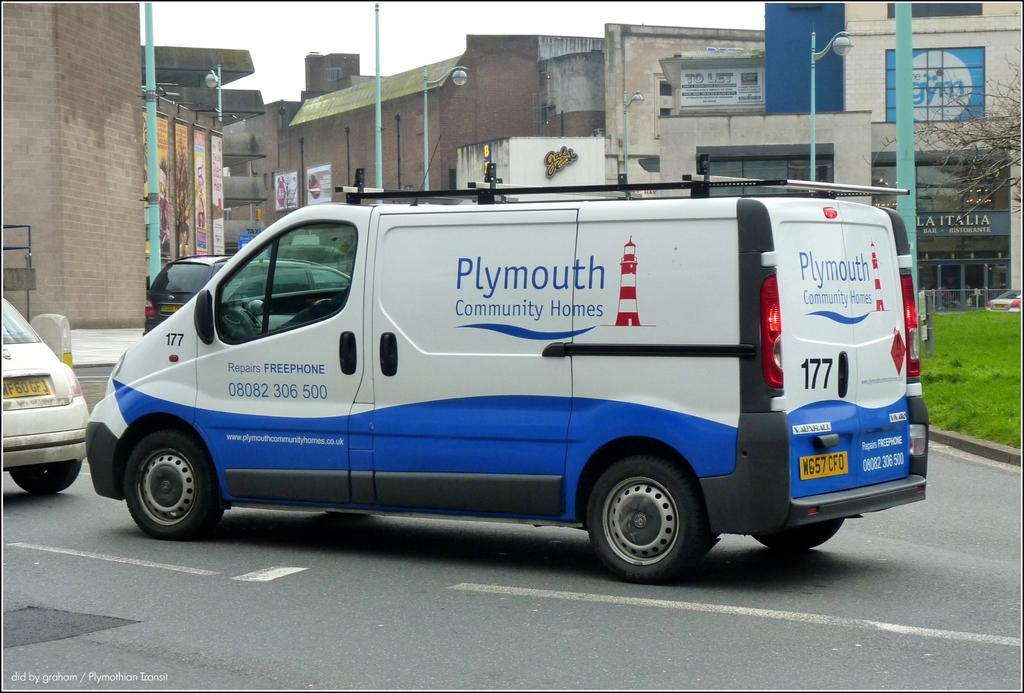vehicle: (87, 198, 929, 582), (142, 253, 356, 352), (2, 297, 88, 493)
